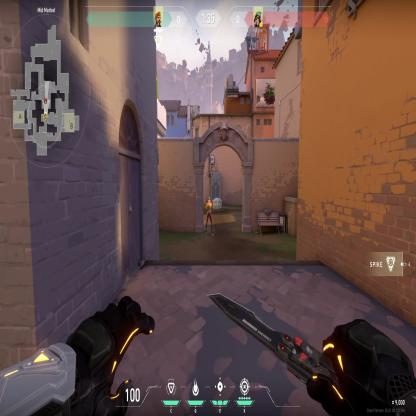enemy: (205, 196, 214, 236)
